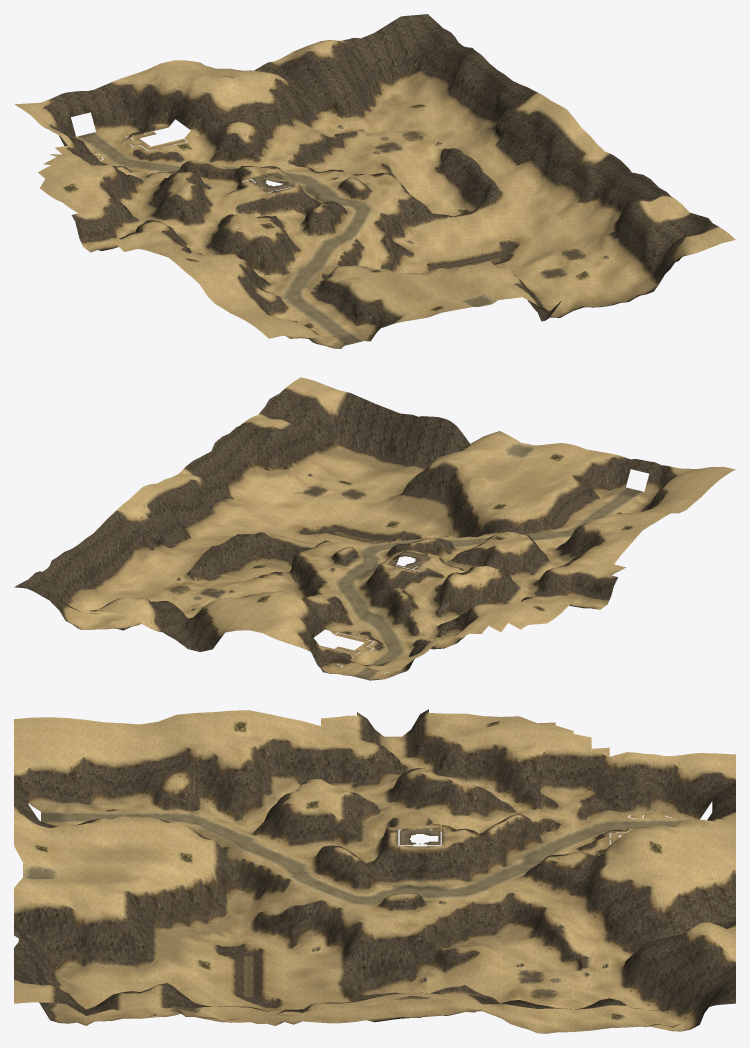
The model's file is Mis04_Zone02.glb.
The picture shows the model from 3 angles, top to bottom: view 1: azimuth 30°, elevation 25°; view 2: azimuth 150°, elevation 25°; view 3: azimuth 270°, elevation 25°; orthographic projection. The views are drawn at different scales.
Visible parts, largest first — view 1: no part large enough to name; view 2: no part large enough to name; view 3: MIS04_ZONE02438, MIS04_ZONE02709, MIS04_ZONE02746, MIS04_ZONE02057, MIS04_ZONE021092, MIS04_ZONE02238, MIS04_ZONE02365, MIS04_ZONE02445, MIS04_ZONE02783, MIS04_ZONE02775, MIS04_ZONE02184, MIS04_ZONE02093 (+19 smaller).
Boxes of the visible parts, x1=… form: MIS04_ZONE02438: x1=230, y1=772, x2=257, y2=814; MIS04_ZONE02709: x1=354, y1=943, x2=374, y2=985; MIS04_ZONE02746: x1=375, y1=941, x2=392, y2=985; MIS04_ZONE02057: x1=32, y1=911, x2=53, y2=954; MIS04_ZONE021092: x1=555, y1=748, x2=573, y2=783; MIS04_ZONE02238: x1=122, y1=921, x2=143, y2=961; MIS04_ZONE02365: x1=194, y1=762, x2=212, y2=800; MIS04_ZONE02445: x1=228, y1=857, x2=248, y2=892; MIS04_ZONE02783: x1=393, y1=940, x2=410, y2=977; MIS04_ZONE02775: x1=393, y1=846, x2=416, y2=879; MIS04_ZONE02184: x1=104, y1=769, x2=122, y2=803; MIS04_ZONE02093: x1=50, y1=910, x2=67, y2=952.
Bounding box in the file's own units: 294 × 49.6 × 320.
Materials: 48 (48 with a texture image).
